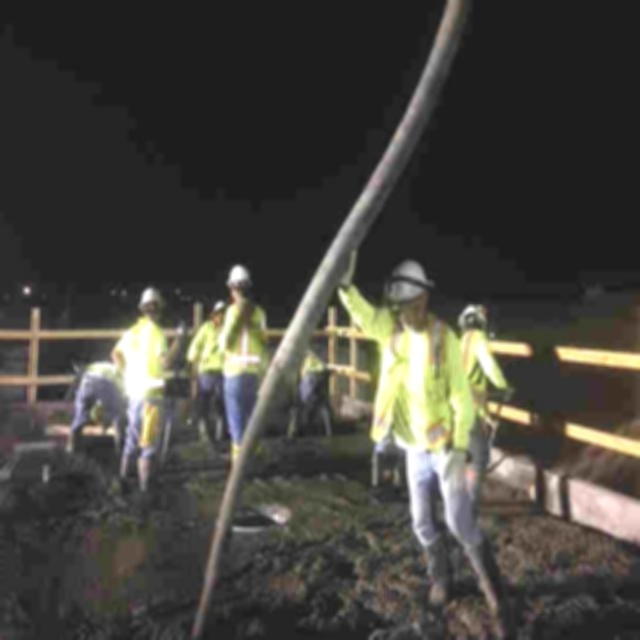Con_Chaleco: (369, 319, 454, 454), (218, 305, 266, 375), (123, 323, 165, 397)
